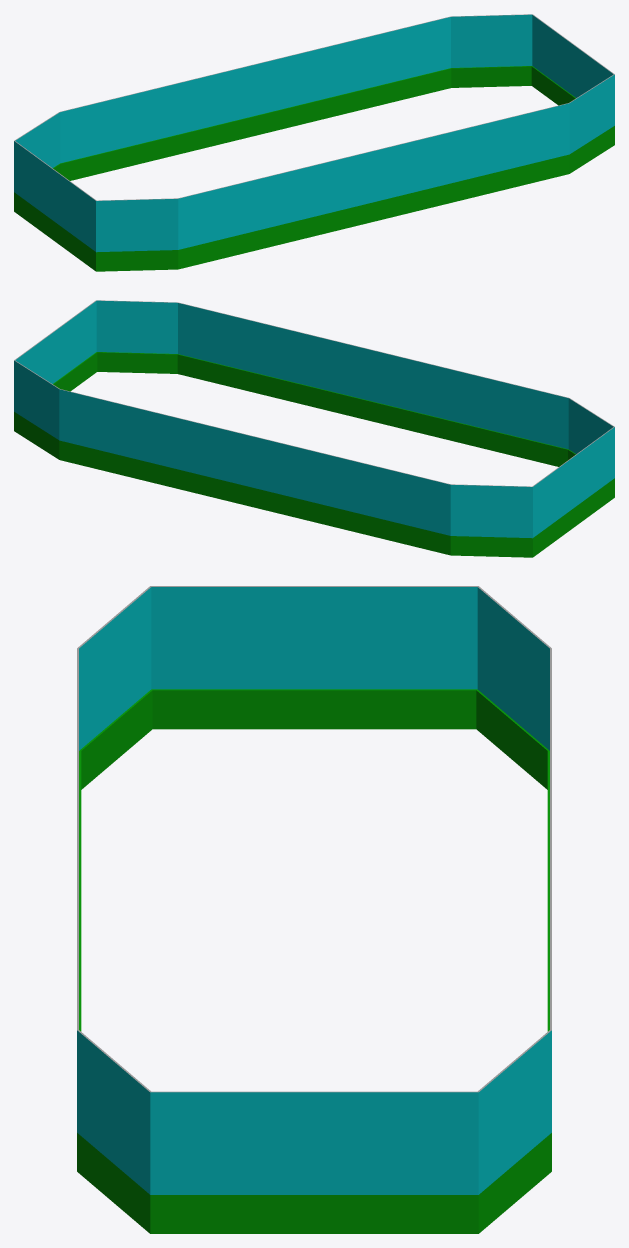
File: rdc_serre.fbx
3 renders of one model, top to bottom at view 1: azimuth 30°, elevation 25°; view 2: azimuth 150°, elevation 25°; view 3: azimuth 270°, elevation 25°, orthographic. The views are drawn at different scales.
Visible parts, largest first — view 1: pCube161, pCube18, pCube179, pCube19, pCube178, pCube10, pCube5, pCube168, pCube170, pCube9, pCube4, pCube11 (+25 smaller); view 2: pCube14, pCube163, pCube15, pCube164, pCube12, pCube168, pCube173, pCube7, pCube5, pCube166, pCube172, pCube175 (+25 smaller); view 3: pCube174, pCube17, pCube21, pCube162, pCube20, pCube167, pCube176, pCube16, pCube164, pCube19, pCube161, pCube14 (+4 smaller).
Boxes of the visible parts, <box> form: pCube161: <box>137,198,178,270</box>; pCube18: <box>451,15,491,87</box>; pCube179: <box>96,199,136,271</box>; pCube19: <box>492,14,532,86</box>; pCube178: <box>213,181,249,260</box>; pCube10: <box>166,77,202,157</box>; pCube5: <box>344,34,380,113</box>; pCube168: <box>462,120,498,199</box>; pCube170: <box>391,137,427,217</box>; pCube9: <box>202,68,238,148</box>; pCube4: <box>380,25,416,104</box>; pCube11: <box>131,86,167,165</box>; pCube14: <box>450,484,491,556</box>; pCube163: <box>137,301,177,373</box>; pCube15: <box>492,485,532,557</box>; pCube164: <box>96,300,136,372</box>; pCube12: <box>379,467,415,546</box>; pCube168: <box>248,320,284,399</box>; pCube173: <box>426,363,462,443</box>; pCube7: <box>201,423,237,503</box>; pCube5: <box>130,406,166,485</box>; pCube166: <box>212,311,248,390</box>; pCube172: <box>390,354,426,434</box>; pCube175: <box>461,372,497,451</box>; pCube174: <box>232,586,314,729</box>; pCube17: <box>314,586,396,729</box>; pCube21: <box>314,1091,396,1233</box>; pCube162: <box>232,1091,314,1233</box>; pCube20: <box>396,1091,478,1233</box>; pCube167: <box>150,1091,232,1233</box>; pCube176: <box>150,586,232,729</box>; pCube16: <box>396,586,478,729</box>; pCube164: <box>113,1061,151,1233</box>; pCube19: <box>478,1061,515,1233</box>; pCube161: <box>77,617,117,789</box>; pCube14: <box>511,617,551,789</box>.
Size of the model in its own units: 2917 by 380 by 1156.
